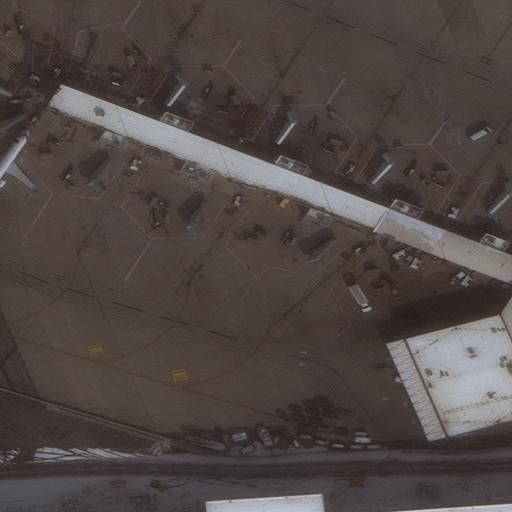Medium Civil Transport: (0, 127, 37, 198)
